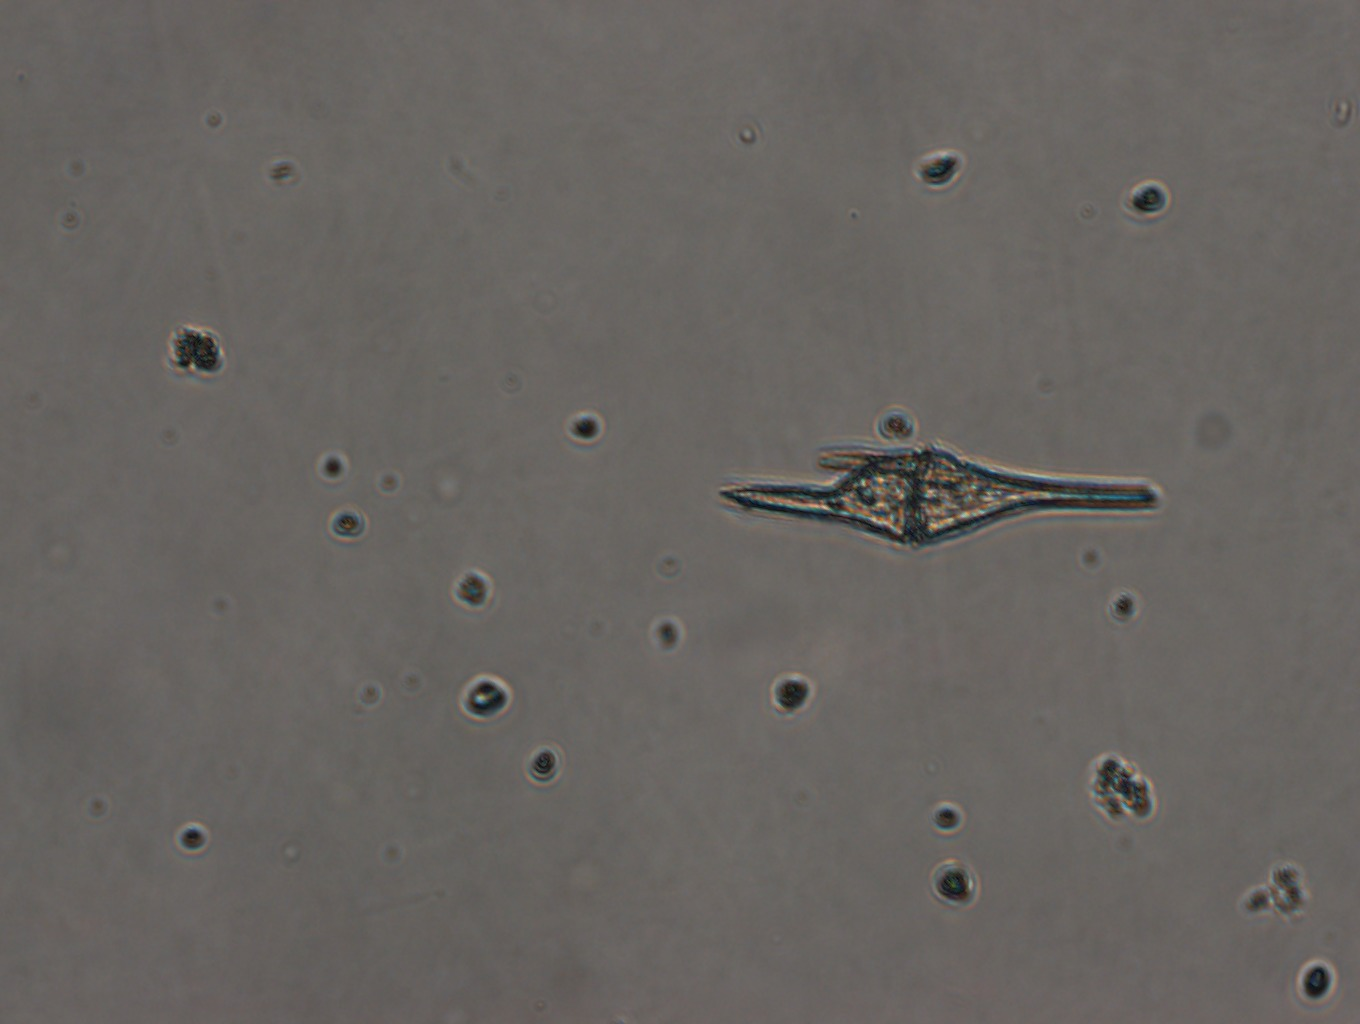ceratium furca: (715, 441, 1165, 552)
